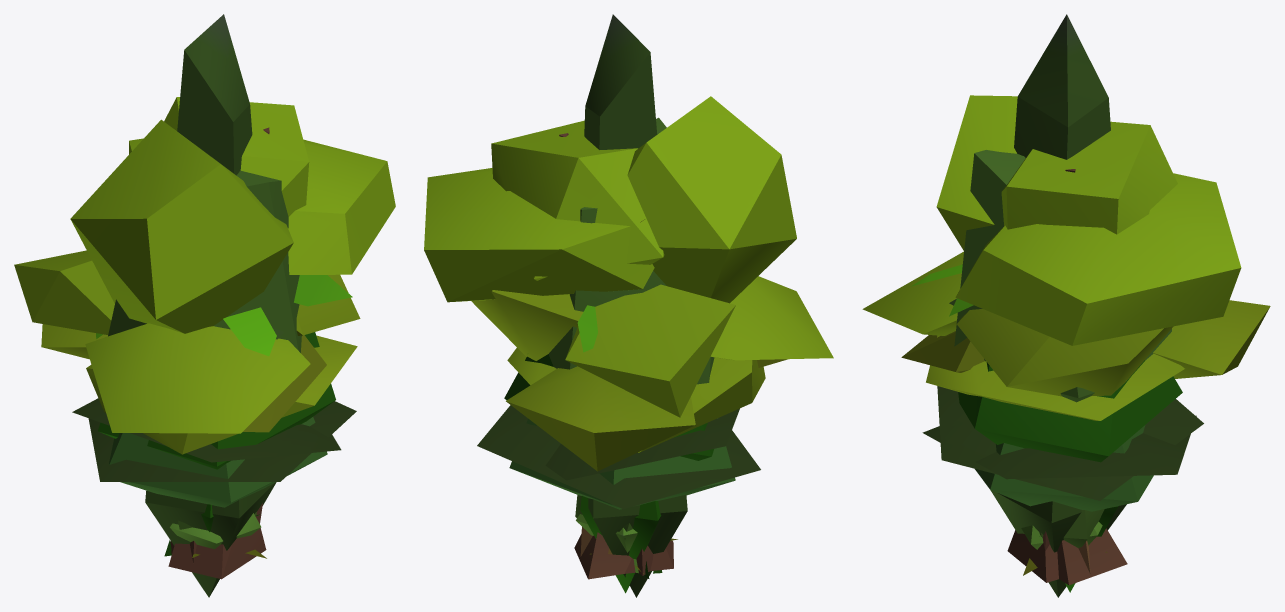
The model's file is Foliage_set.fbx.
3 views of the same model, side by side, from view 1: azimuth 30°, elevation 25°; view 2: azimuth 150°, elevation 25°; view 3: azimuth 270°, elevation 25° (orthographic). The views are drawn at different scales.
Visible parts, largest first — view 1: Tree_evergreen_B, Tree_evergreen_A, Tree_slim_B, Tree_evergreen_C, Tree_conifer_A, Tree_normal_C, Tree_normal_B, Tree_conifer_B, Tree_parm_B, Tree_trunk_A, Tree_normal_A, Bush_C; view 2: Tree_evergreen_B, Tree_evergreen_A, Tree_evergreen_C, Tree_slim_B, Tree_conifer_A, Tree_conifer_B, Tree_normal_C, Tree_normal_B, Tree_slim_A, Tree_bare_D, Tree_parm_B, Tree_normal_A (+1 smaller); view 3: Tree_evergreen_A, Tree_evergreen_C, Tree_evergreen_B, Tree_slim_B, Tree_normal_A, Tree_conifer_B, Tree_conifer_A, Tree_normal_B, Tree_normal_C, Tree_bare_D, Tree_trunk_A, Bush_D (+1 smaller).
Boxes of the visible parts, x1,y1,x2,y2 form: Tree_evergreen_B: (14, 119, 360, 432); Tree_evergreen_A: (41, 138, 395, 433); Tree_slim_B: (145, 14, 276, 597); Tree_evergreen_C: (86, 97, 357, 563); Tree_conifer_A: (88, 401, 356, 481); Tree_normal_C: (109, 417, 327, 507); Tree_normal_B: (108, 170, 301, 352); Tree_conifer_B: (72, 327, 341, 462); Tree_parm_B: (96, 275, 352, 356); Tree_trunk_A: (168, 503, 266, 579); Tree_normal_A: (98, 332, 335, 469); Bush_C: (169, 513, 261, 549); Tree_evergreen_B: (471, 96, 796, 554); Tree_evergreen_A: (424, 168, 833, 471); Tree_evergreen_C: (491, 120, 765, 575); Tree_slim_B: (584, 14, 687, 597); Tree_conifer_A: (477, 405, 760, 509); Tree_conifer_B: (545, 408, 739, 480); Tree_normal_C: (509, 418, 735, 509); Tree_normal_B: (548, 117, 714, 384); Tree_slim_A: (580, 496, 661, 593); Tree_bare_D: (559, 133, 644, 579); Tree_parm_B: (577, 305, 597, 556); Tree_normal_A: (504, 354, 713, 460); Tree_evergreen_A: (862, 173, 1270, 378); Tree_evergreen_C: (926, 121, 1184, 420); Tree_evergreen_B: (901, 95, 1173, 396); Tree_slim_B: (990, 14, 1126, 597); Tree_normal_A: (958, 360, 1182, 462); Tree_conifer_B: (937, 298, 1203, 500); Tree_conifer_A: (922, 415, 1196, 479); Tree_normal_B: (954, 150, 1171, 402); Tree_normal_C: (975, 425, 1153, 511); Tree_bare_D: (1057, 169, 1127, 585); Tree_trunk_A: (1007, 530, 1058, 582); Bush_D: (1039, 509, 1104, 547).
Bounding box in the file's own units: 2243 × 3635 × 2267.
